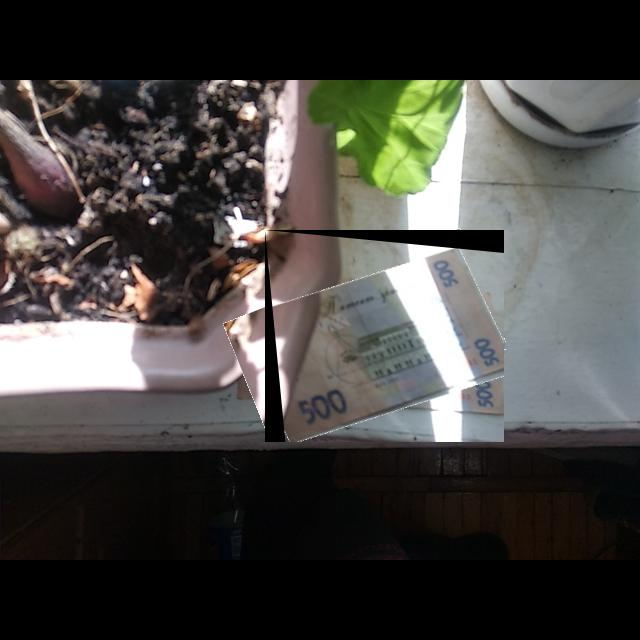500uah: (281, 245, 505, 443)
